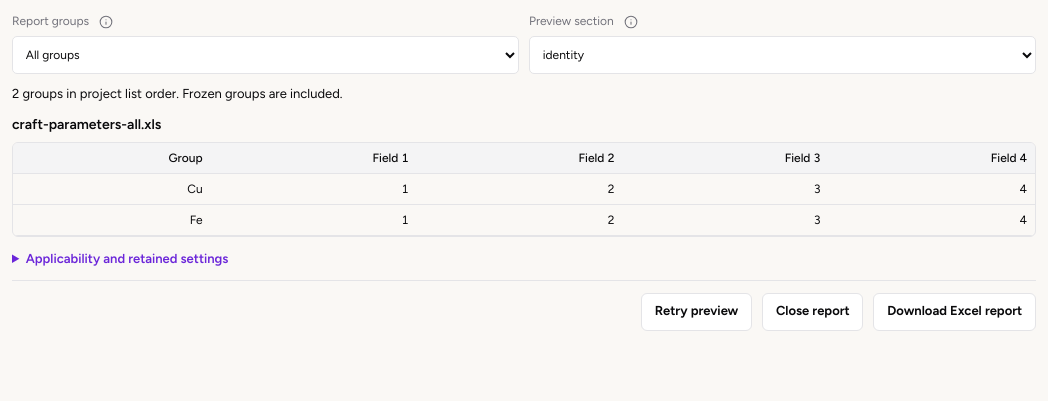
Scenario: requires XLS attachment bytes and releases the busy guard on failure
Click the button "Download Excel report". click: (955, 312)
box: [874, 293, 1036, 330]
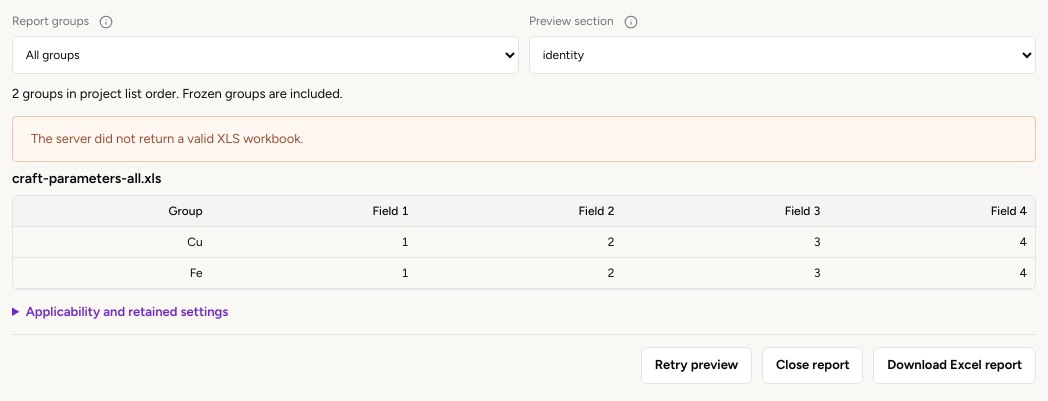
Check: the message shows "valid XLS workbook", box [31, 131, 303, 146]
